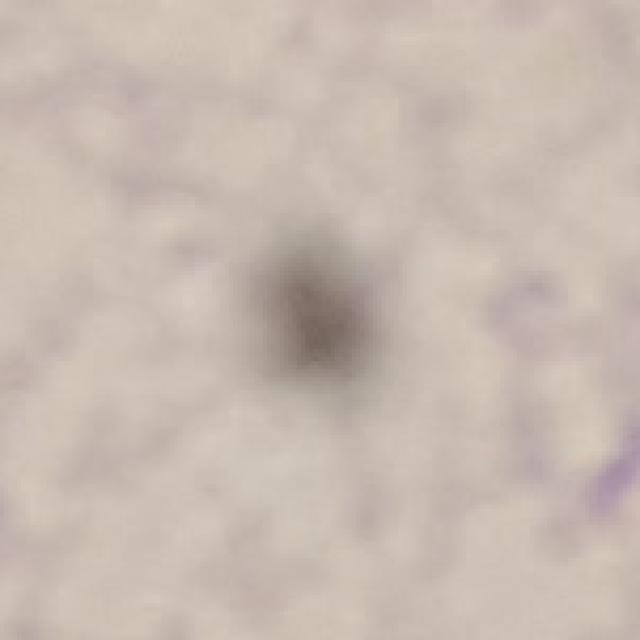non-sperm: (259, 235, 386, 386)
